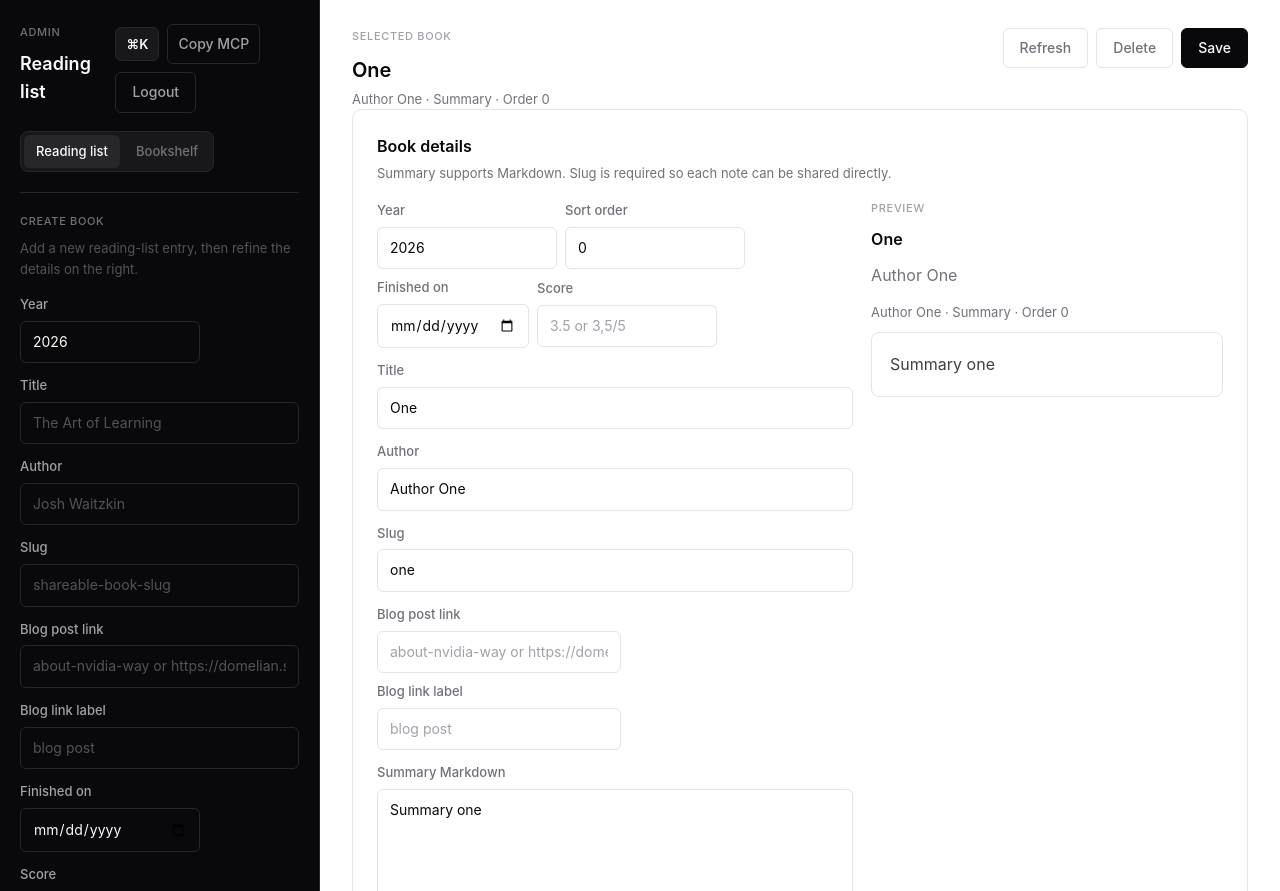
Test: ReadingListWorkspace › does not save when slug is cleared manually
Clear the field showing "one" below "Summary one" at point(615, 570), box [377, 549, 853, 592]
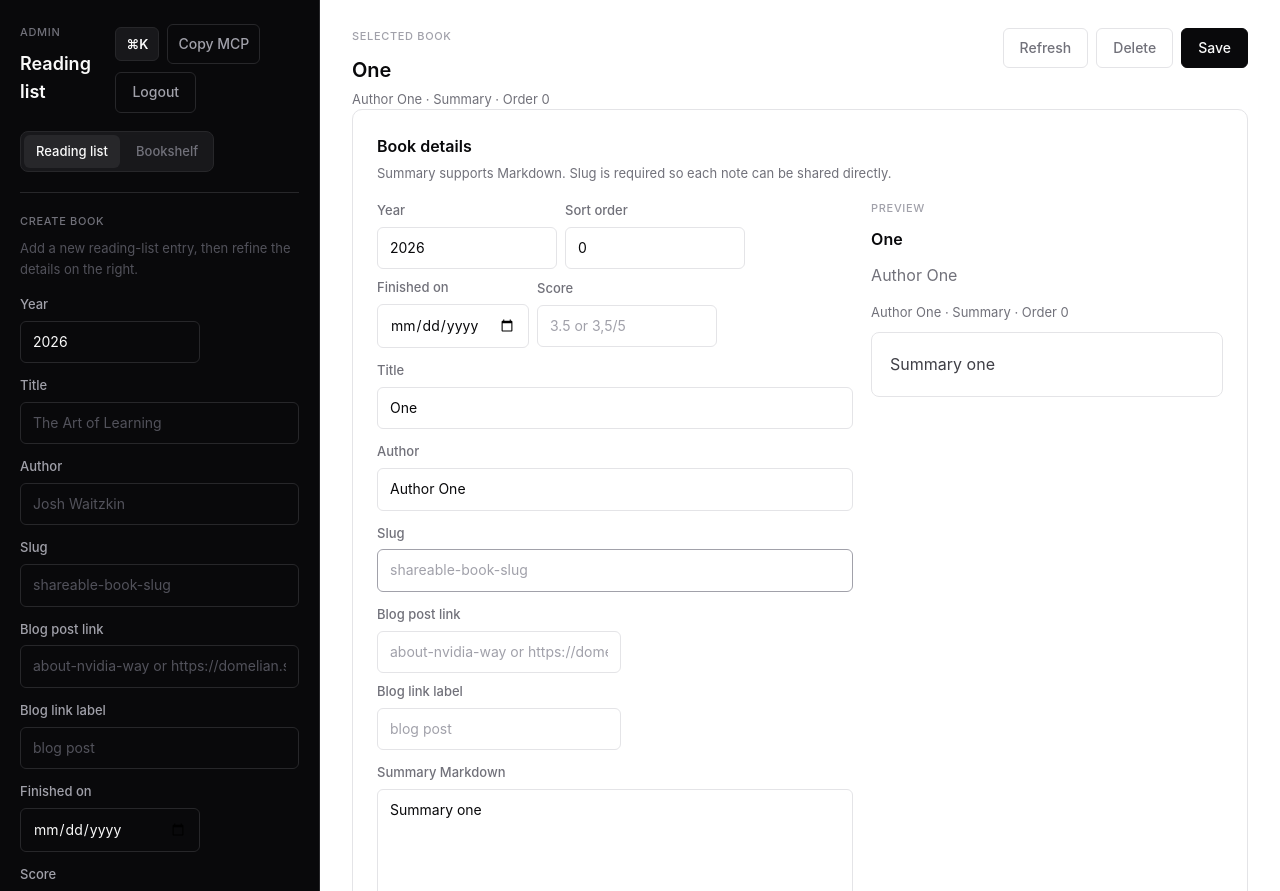
Click the button "Save".
click(1215, 48)  # box [1181, 28, 1248, 68]
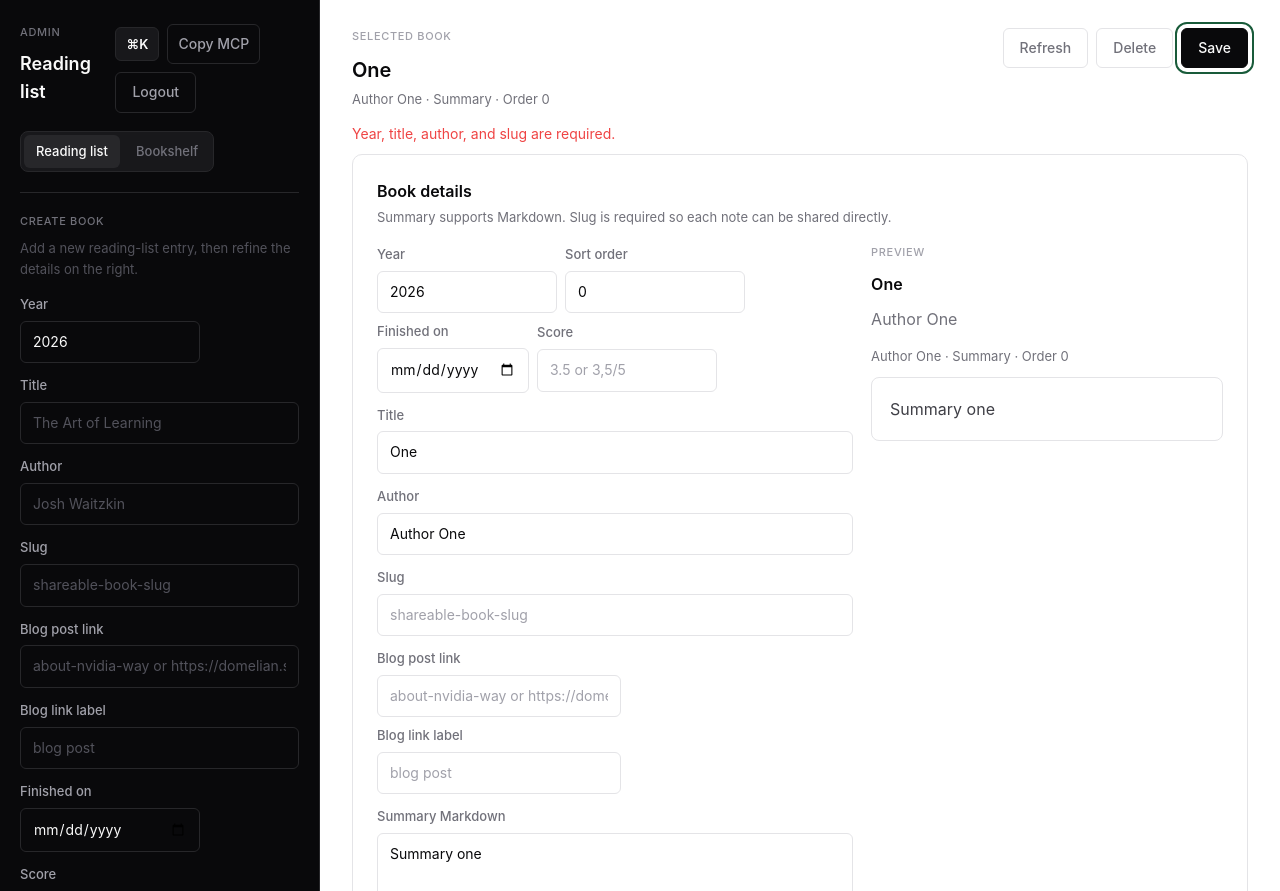
Now the text "Year, title, author, and slug are required." is shown, box [352, 125, 615, 142]
